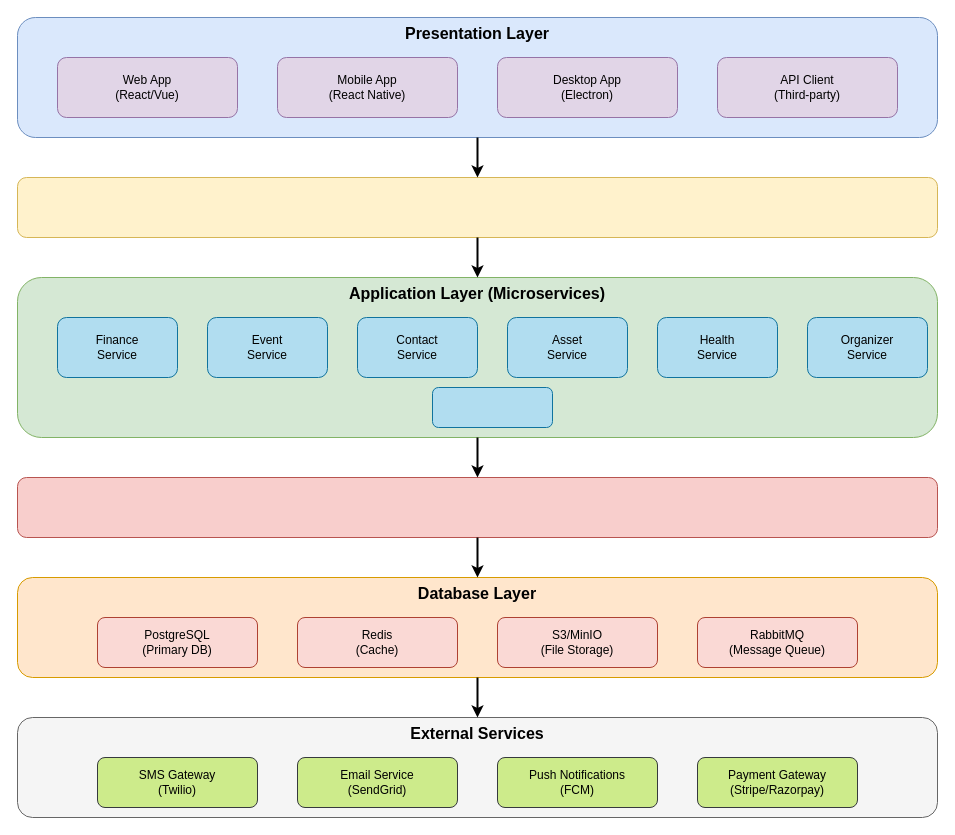
The diagram is 955 pixels wide and 835 high, and some of its shapes have lost their labels. Here are the shapes that lost their labels. From the top down, the centre of each, then its label:
the point at 477,207: API Gateway Layer (Authentication, Rate Limiting, Load Balancing)
the point at 492,407: Messaging Service
the point at 477,507: Data Access Layer (Repository Pattern, ORM)
